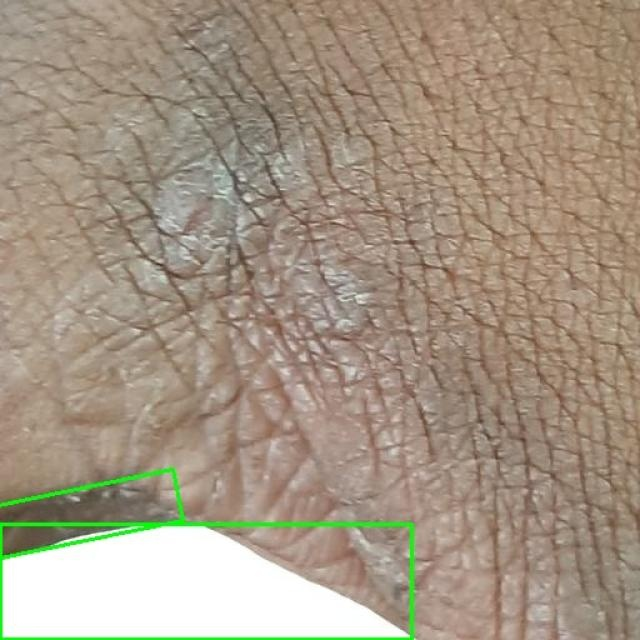Scabies: (0, 524, 411, 639), (0, 470, 184, 560)
